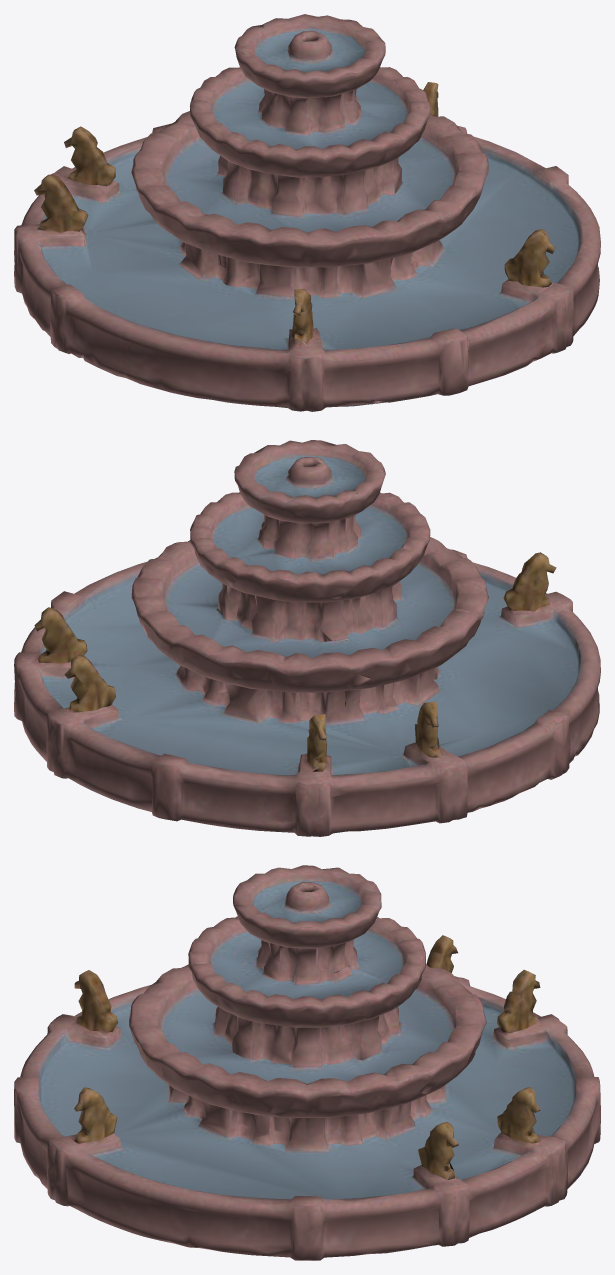
File: buckingham_fountain.glb
3 renders of one model, top to bottom at view 1: azimuth 30°, elevation 25°; view 2: azimuth 150°, elevation 25°; view 3: azimuth 270°, elevation 25°, orthographic.
Visible parts, largest first — view 1: buckingham_fountain; view 2: buckingham_fountain; view 3: buckingham_fountain.
Part boxes in pixels (x1,y1,x2,y2): buckingham_fountain: [14, 14, 600, 411]; buckingham_fountain: [14, 440, 600, 836]; buckingham_fountain: [14, 865, 600, 1260].
Bounding box in the file's own units: 16.15 × 7.68 × 16.16.
Materials: 1 (1 with a texture image).
